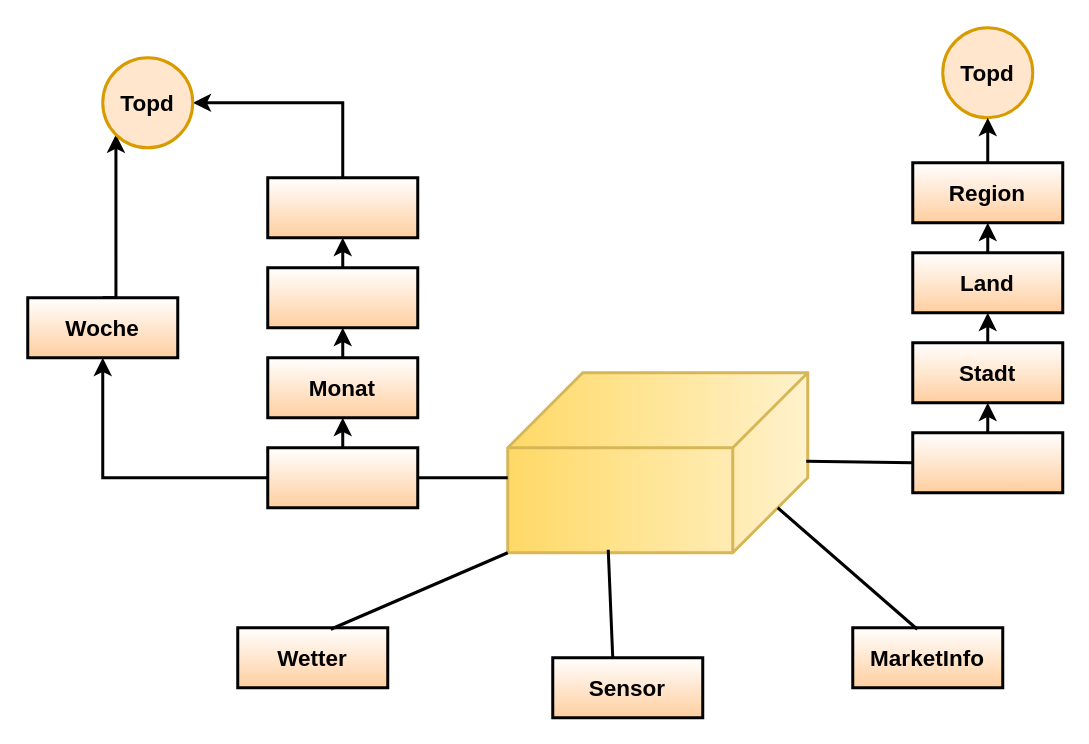
Some shapes in this 1089 by 744 pixel diagram are drawn without their labels. The shapes that lost their labels are listed below. From the top down, each one's centre as x and y in pixels, then its label:
the point at 342,207: Jahr
the point at 342,297: Quartal
the point at 342,477: Tag
the point at 657,462: EnergieAblesung
the point at 987,462: Name
